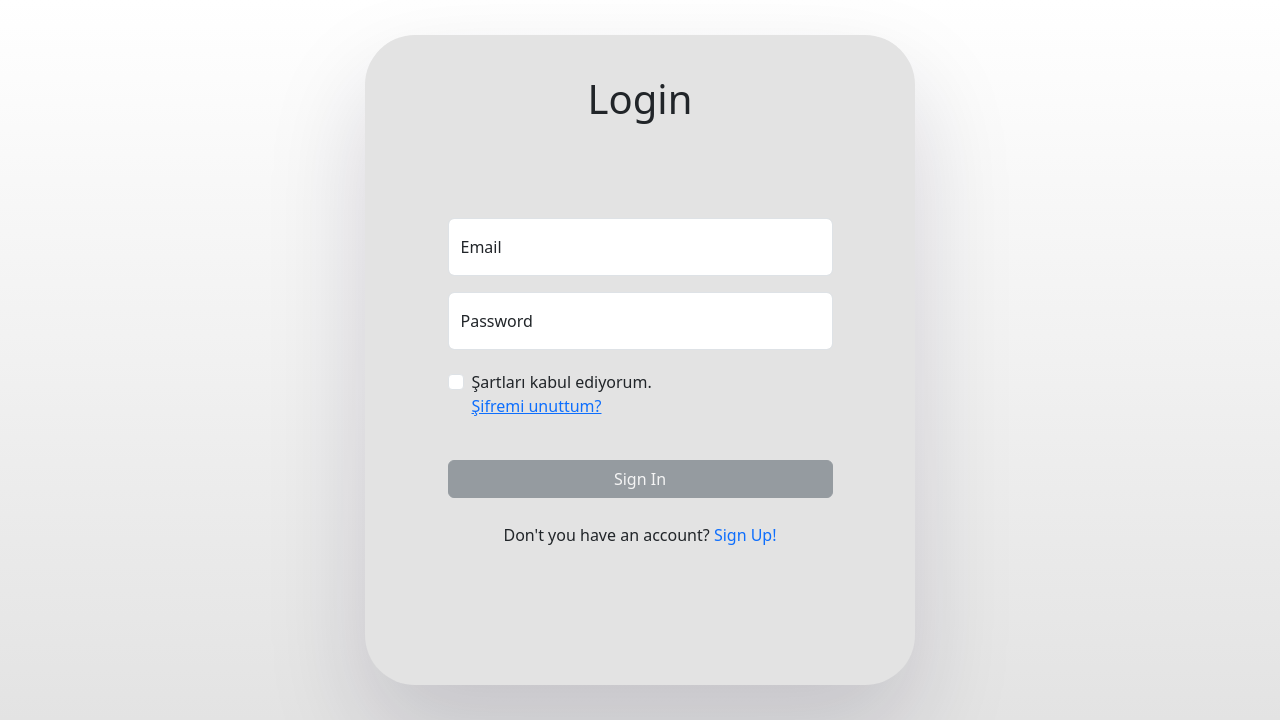
Test: workintech study › ekranda 1 tane hata mesajı var
The width and height of the screenshot is (1280, 720).
In the field with test id "email-input": (641, 247) [448,218,833,276], type "wabalaba dub dub"
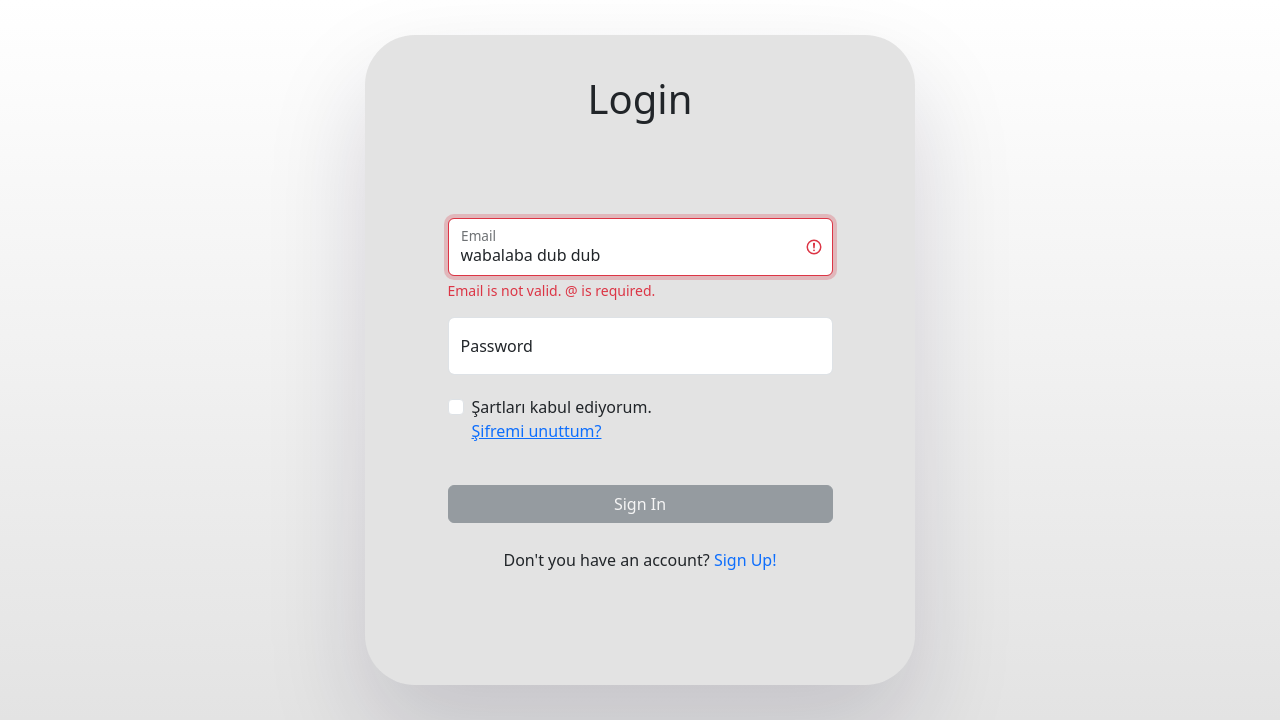
Expected: the submit button is disabled, [448,485,833,523]
Now the number of elements with class "invalid-feedback" is 1, box [448,281,656,300]
Now the text "Email is not valid. @ is required." is shown, box [448,281,655,300]
